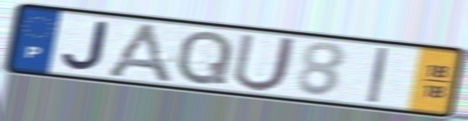8: (295, 41, 350, 101)
A: (101, 21, 177, 86)
I: (365, 45, 391, 106)
J: (60, 20, 112, 72)
Q: (174, 28, 237, 87)
U: (230, 31, 301, 94)
